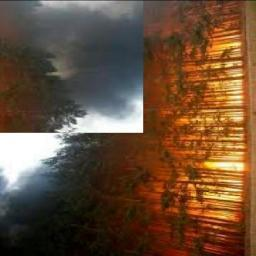Heavy smoke: (36, 3, 143, 122)
Large fire: (147, 23, 247, 256)
